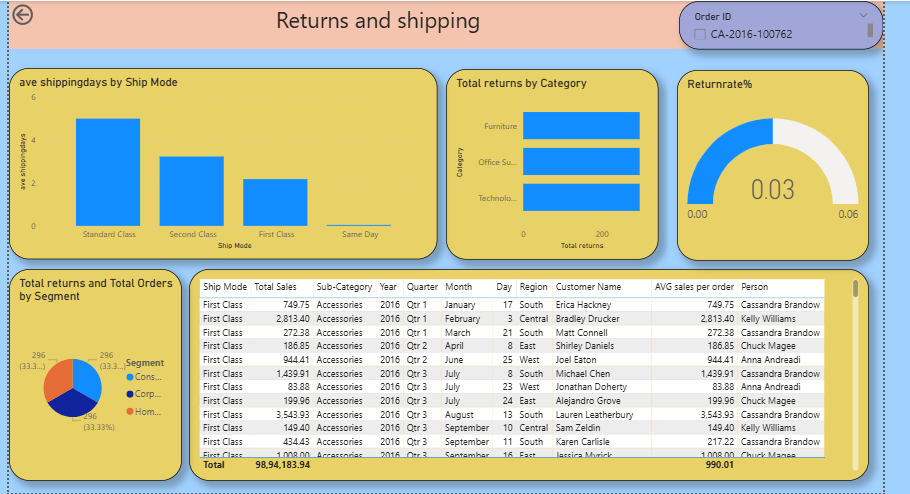

The dashboard page shown, as its layout file describes it:
{"tool":"powerbi","page":{"name":"RET/SHIP","canvas":[1280,720],"ordinal":3},"visuals":[{"type":"clusteredBarChart","fields":{"Y":["Orders.Total returns"],"Category":["Orders.Category"]},"box":[640,99.1,310.8,278.8],"z":0},{"type":"tableEx","fields":{"Values":["Orders.Ship Mode","Orders.Total Sales","Orders.Sub-Category","Orders.Ship Date.Variation.Date Hierarchy.Year","Orders.Ship Date.Variation.Date Hierarchy.Quarter","Orders.Ship Date.Variation.Date Hierarchy.Month","Orders.Ship Date.Variation.Date Hierarchy.Day","Orders.Region","Orders.Customer Name","Orders.AVG sales per order","People.Person"]},"box":[263.4,392.2,995.1,310.2],"z":1000},{"type":"gauge","fields":{"Y":["Orders.Returnrate%"]},"box":[977.6,100.8,280.5,278.8],"z":2000},{"type":"textbox","box":[0,0,1280,70],"z":3000},{"type":"columnChart","fields":{"Y":["Orders.ave shippingdays"],"Category":["Orders.Ship Mode"]},"box":[0,98.6,627.1,280],"z":4000},{"type":"pieChart","fields":{"Series":["Orders.Segment"],"Y":["Orders.Total returns"]},"box":[0,392.2,253.2,310.2],"z":5000},{"type":"slicer","fields":{"Values":["Returns.Order ID"]},"box":[981,0,299,70.6],"z":6000},{"type":"actionButton","box":[0,0,100,40],"z":6001}]}

Visuals, with their boxes on the page's 1280x720 design canvas (x1, y1, x2, y2). These are canvas units, not pixel positions in the 910x494 screenshot, which may show the page scaled, cropped or inside an application window:
clusteredBarChart - Orders.Total returns x Orders.Category: rect(640, 99, 951, 378)
tableEx - Orders.Ship Mode x Orders.Total Sales: rect(263, 392, 1258, 702)
gauge - Orders.Returnrate%: rect(978, 101, 1258, 380)
textbox: rect(0, 0, 1280, 70)
columnChart - Orders.ave shippingdays x Orders.Ship Mode: rect(0, 99, 627, 379)
pieChart - Orders.Segment x Orders.Total returns: rect(0, 392, 253, 702)
slicer - Returns.Order ID: rect(981, 0, 1280, 71)
actionButton: rect(0, 0, 100, 40)
